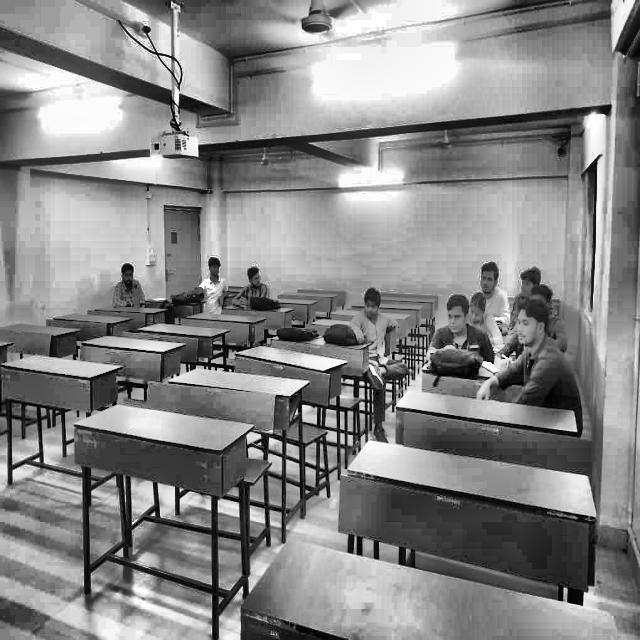Focus: (503, 294, 566, 363), (478, 246, 546, 306), (434, 289, 475, 352), (356, 284, 393, 332)
Not Focus: (187, 250, 236, 311), (229, 246, 281, 303), (118, 266, 154, 314)
